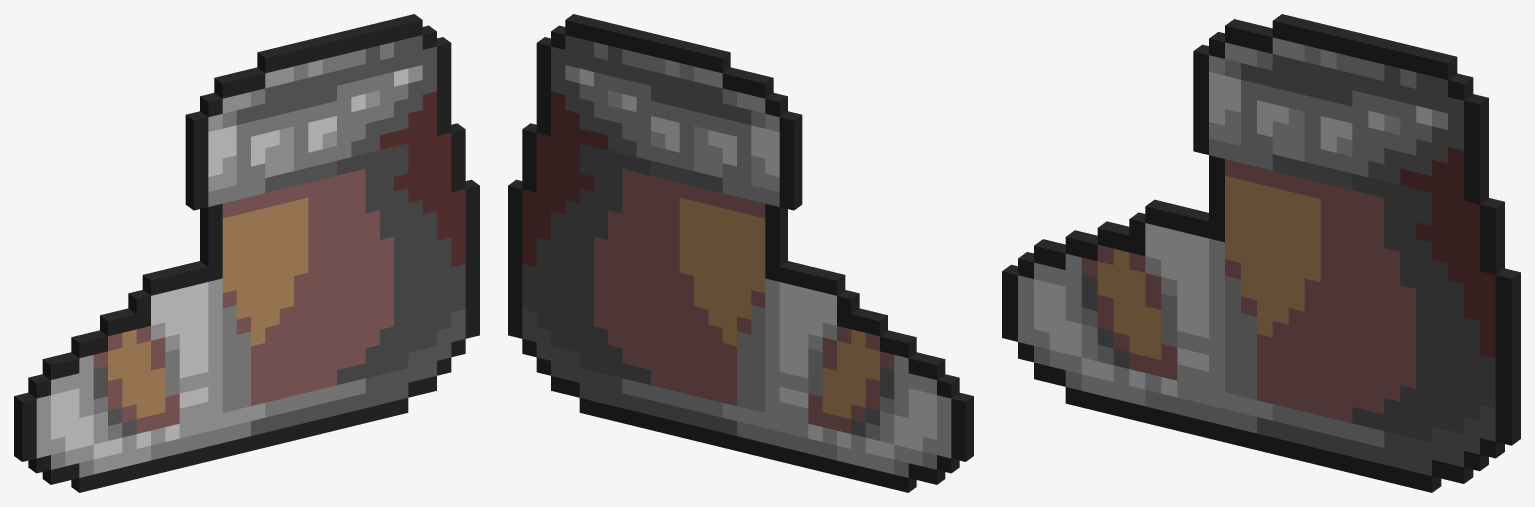
Rendered from A_Shoes03.fbx.
3 renders of one model, left to right at view 1: azimuth 30°, elevation 25°; view 2: azimuth 150°, elevation 25°; view 3: azimuth 330°, elevation 25°, orthographic. The views are drawn at different scales.
Visible parts, largest first — view 1: Default; view 2: Default; view 3: Default.
Boxes of the visible parts, bbox=[...] form: Default: bbox=[14, 14, 479, 492]; Default: bbox=[508, 14, 973, 492]; Default: bbox=[1002, 14, 1520, 492].
Bounding box in the file's own units: 32 × 26 × 1.
Materials: 1 (1 with a texture image).
